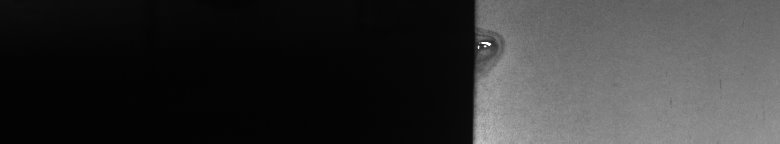hb: (484, 25, 505, 65)
